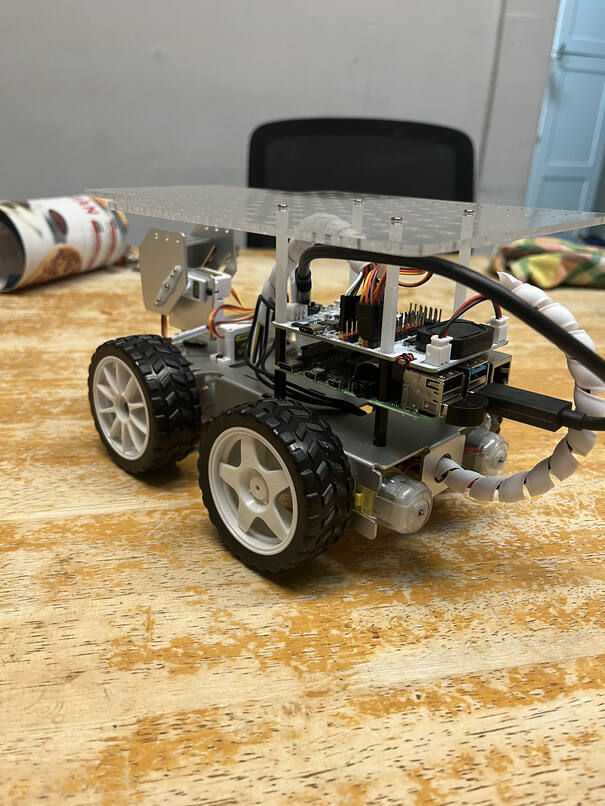vehicle: (81, 185, 605, 576)
